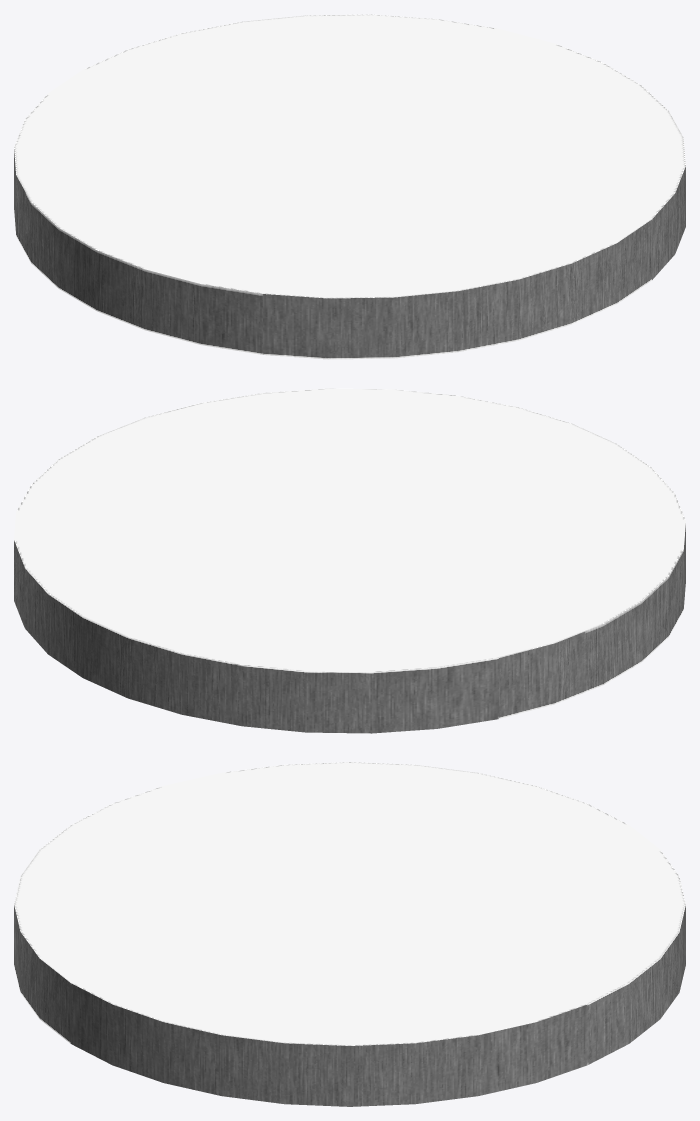
File: light.glb
3 views of the same model, one above another, from view 1: azimuth 30°, elevation 25°; view 2: azimuth 150°, elevation 25°; view 3: azimuth 270°, elevation 25° (orthographic).
Visible parts, largest first — view 1: Cylinder; view 2: Cylinder; view 3: Cylinder.
Part boxes in pixels (<box>): Cylinder: <box>14,14,685,359</box>; Cylinder: <box>14,388,685,733</box>; Cylinder: <box>14,762,685,1106</box>.
Bounding box in the file's own units: 1 × 0.1 × 1.
1 material, 1 textured.
